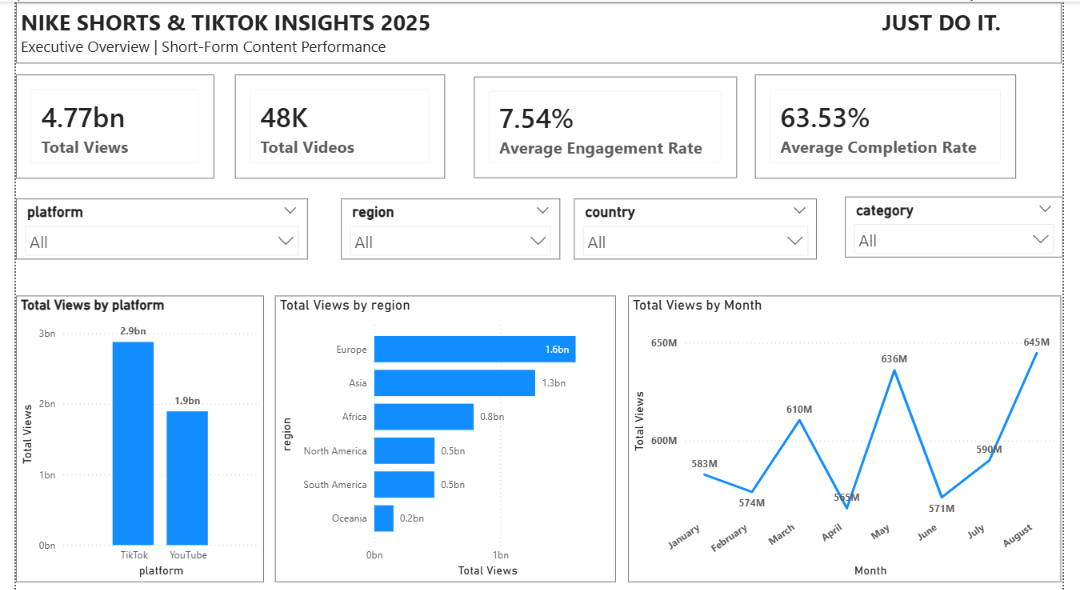

The dashboard page shown, as its layout file describes it:
{"tool":"powerbi","page":{"name":"Executive Overview","canvas":[1280,720],"ordinal":0},"visuals":[{"type":"textbox","box":[0,1.6,1278.4,74.2],"z":0},{"type":"cardVisual","fields":{"Data":["youtube_shorts_tiktok_trends_2025.Total Views"]},"box":[0,88.8,242.1,127.5],"z":1000},{"type":"cardVisual","fields":{"Data":["youtube_shorts_tiktok_trends_2025.Total Videos"]},"box":[267.9,88.8,256.6,127.5],"z":2000},{"type":"cardVisual","fields":{"Data":["youtube_shorts_tiktok_trends_2025.Average Engagement Rate"]},"box":[560.1,92,321.2,124.3],"z":3000},{"type":"cardVisual","fields":{"Data":["youtube_shorts_tiktok_trends_2025.Average Completion Rate"]},"box":[903.9,88.8,319.6,127.5],"z":4000},{"type":"slicer","fields":{"Values":["youtube_shorts_tiktok_trends_2025.platform"]},"box":[0,240.5,356.7,74.2],"z":5000},{"type":"slicer","fields":{"Values":["youtube_shorts_tiktok_trends_2025.region"]},"box":[397.1,240.5,267.9,74.2],"z":6000},{"type":"slicer","fields":{"Values":["youtube_shorts_tiktok_trends_2025.country"]},"box":[682.8,240.5,297,74.2],"z":7000},{"type":"slicer","fields":{"Values":["youtube_shorts_tiktok_trends_2025.category"]},"box":[1013.7,238.9,266.3,74.2],"z":8000},{"type":"clusteredColumnChart","fields":{"Category":["youtube_shorts_tiktok_trends_2025.platform"],"Y":["youtube_shorts_tiktok_trends_2025.Total Views"]},"box":[0,359.9,303.5,350.3],"z":9000},{"type":"clusteredBarChart","fields":{"Category":["youtube_shorts_tiktok_trends_2025.region"],"Y":["youtube_shorts_tiktok_trends_2025.Total Views"]},"box":[316.4,359.9,416.4,350.3],"z":10000},{"type":"lineChart","fields":{"Category":["youtube_shorts_tiktok_trends_2025.year_month.Variation.Date Hierarchy.Month"],"Y":["youtube_shorts_tiktok_trends_2025.Total Views"]},"box":[749,359.9,529.4,350.3],"z":11000}]}

Visuals, with their boxes in screenshot pixels (x1, y1, x2, y2), scaled from the page's 1280x720 canvas onto the 1080x590 screenshot:
textbox: detection(0, 1, 1079, 62)
cardVisual - youtube_shorts_tiktok_trends_2025.Total Views: detection(0, 73, 204, 177)
cardVisual - youtube_shorts_tiktok_trends_2025.Total Videos: detection(226, 73, 443, 177)
cardVisual - youtube_shorts_tiktok_trends_2025.Average Engagement Rate: detection(473, 75, 744, 177)
cardVisual - youtube_shorts_tiktok_trends_2025.Average Completion Rate: detection(763, 73, 1032, 177)
slicer - youtube_shorts_tiktok_trends_2025.platform: detection(0, 197, 301, 258)
slicer - youtube_shorts_tiktok_trends_2025.region: detection(335, 197, 561, 258)
slicer - youtube_shorts_tiktok_trends_2025.country: detection(576, 197, 827, 258)
slicer - youtube_shorts_tiktok_trends_2025.category: detection(855, 196, 1079, 257)
clusteredColumnChart - youtube_shorts_tiktok_trends_2025.platform x youtube_shorts_tiktok_trends_2025.Total Views: detection(0, 295, 256, 582)
clusteredBarChart - youtube_shorts_tiktok_trends_2025.region x youtube_shorts_tiktok_trends_2025.Total Views: detection(267, 295, 618, 582)
lineChart - youtube_shorts_tiktok_trends_2025.year_month.Variation.Date Hierarchy.Month x youtube_shorts_tiktok_trends_2025.Total Views: detection(632, 295, 1079, 582)
